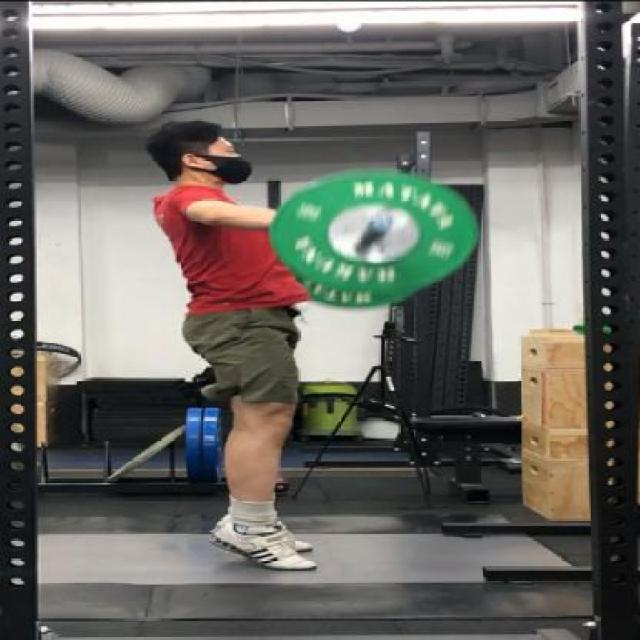Barbell: (356, 212, 406, 238)
